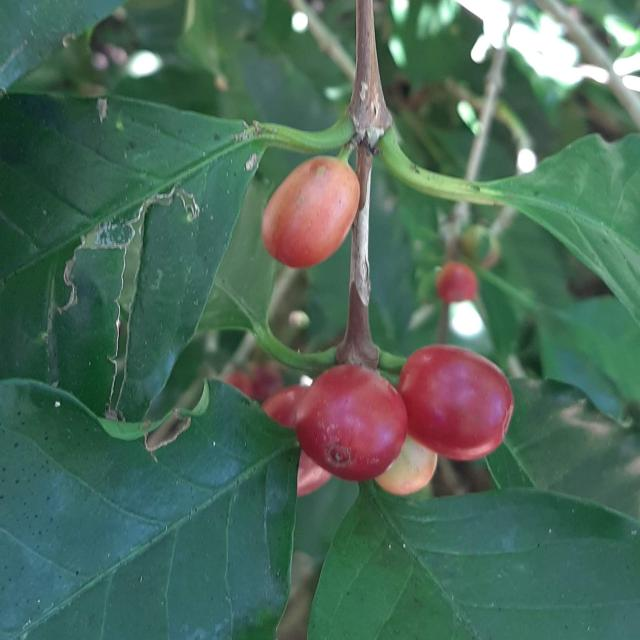red: (398, 345, 514, 461), (295, 365, 408, 482)
yellow: (262, 156, 360, 268), (375, 436, 438, 496), (437, 262, 479, 303)
